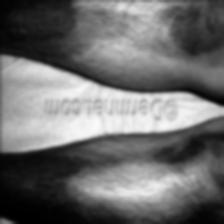Toxin: (0, 2, 224, 54), (0, 148, 224, 196)
